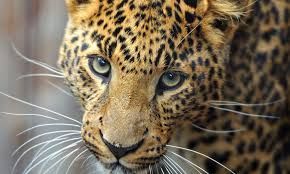amur_leopard: (34, 3, 252, 171)
